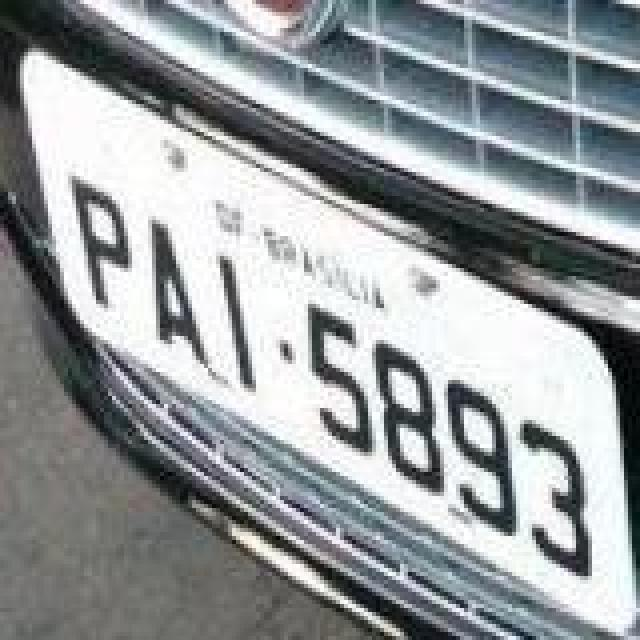1: (214, 254, 258, 394)
3: (518, 418, 594, 582)
5: (304, 302, 376, 458)
8: (370, 338, 446, 494)
9: (442, 374, 518, 538)
A: (150, 214, 210, 370)
P: (72, 172, 136, 308)
